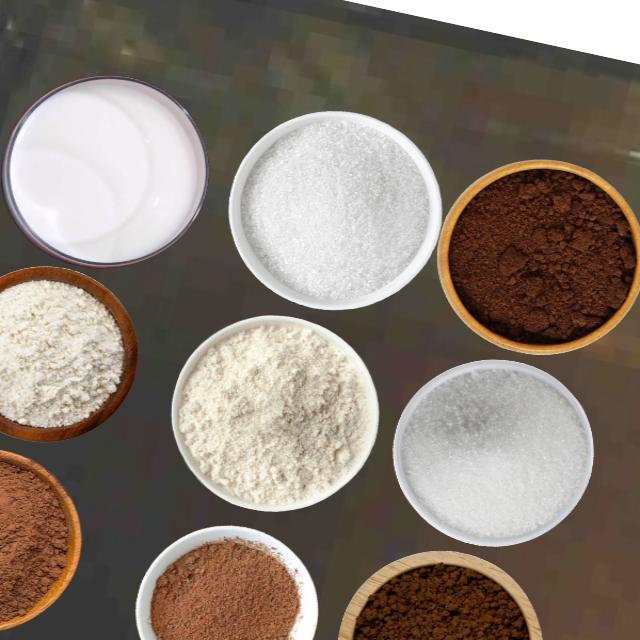Cocoa: (149, 536, 300, 639), (0, 458, 78, 619)
Coffee: (445, 164, 635, 346), (352, 561, 529, 639)
Flour: (177, 322, 369, 505), (0, 278, 124, 428)
Sugar: (239, 116, 429, 301), (399, 366, 589, 539)
